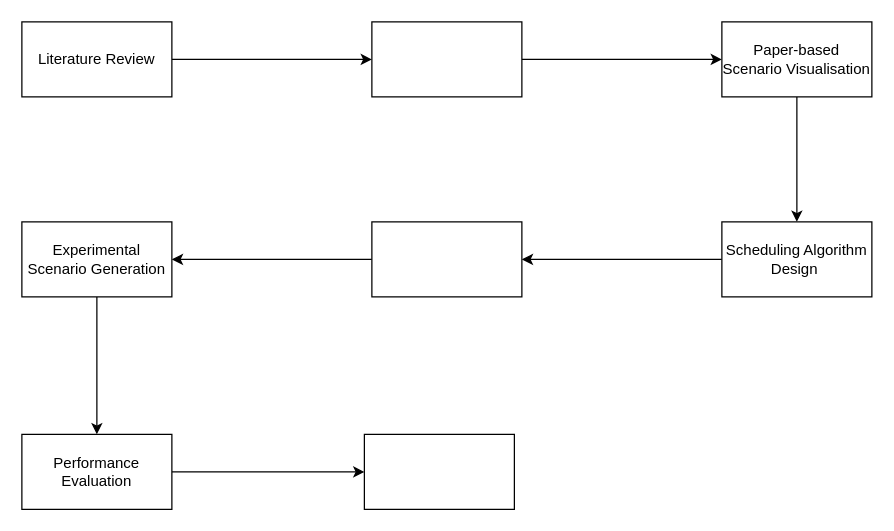
This 894x531 diagram has some shape labels left out. The shapes that lost their labels are listed below. From the top down, each one's centre as x and y in pixels, then its label:
At point (446, 59): "Conceptual System Design".
At point (446, 259): "Simulation Implementation".
At point (438, 471): "Results Analysis".
